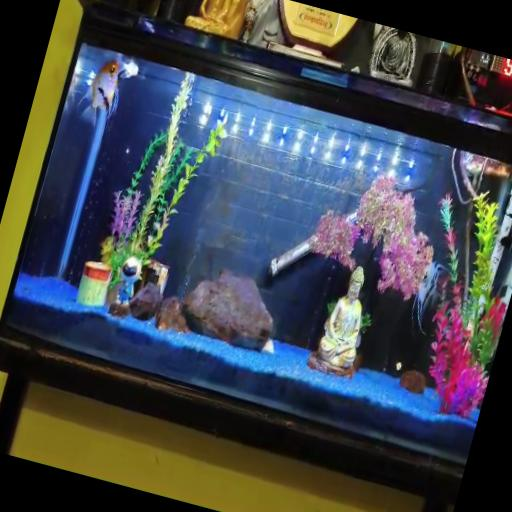Fish: (77, 60, 124, 126), (412, 262, 447, 334)
